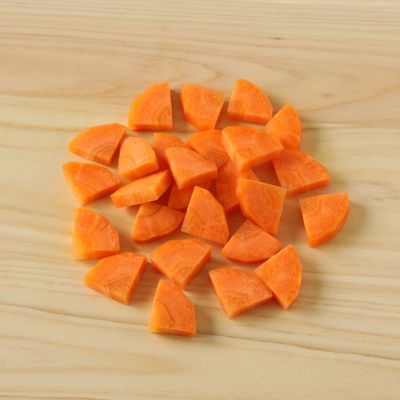buah_sayur_vitA: (229, 130, 272, 159), (220, 277, 256, 304), (80, 222, 109, 254), (70, 168, 105, 194), (253, 189, 281, 221), (100, 264, 133, 291), (192, 203, 220, 233), (308, 203, 338, 231), (175, 155, 202, 186), (166, 247, 196, 274), (236, 231, 268, 256), (283, 157, 310, 186), (140, 97, 165, 126), (81, 132, 115, 153), (141, 208, 167, 235), (156, 294, 181, 322), (188, 93, 217, 117), (234, 91, 263, 115), (266, 263, 295, 287), (123, 145, 150, 170), (278, 112, 296, 138), (204, 135, 221, 155)
